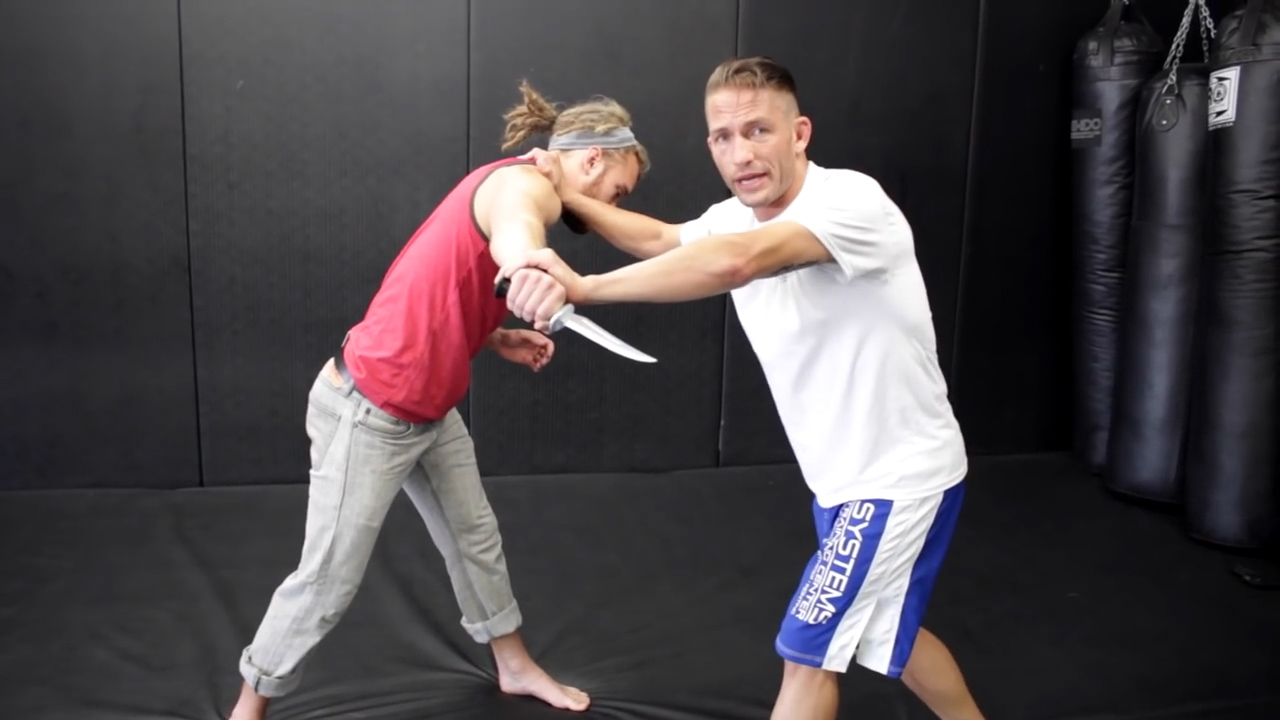knife: (480, 262, 664, 372)
